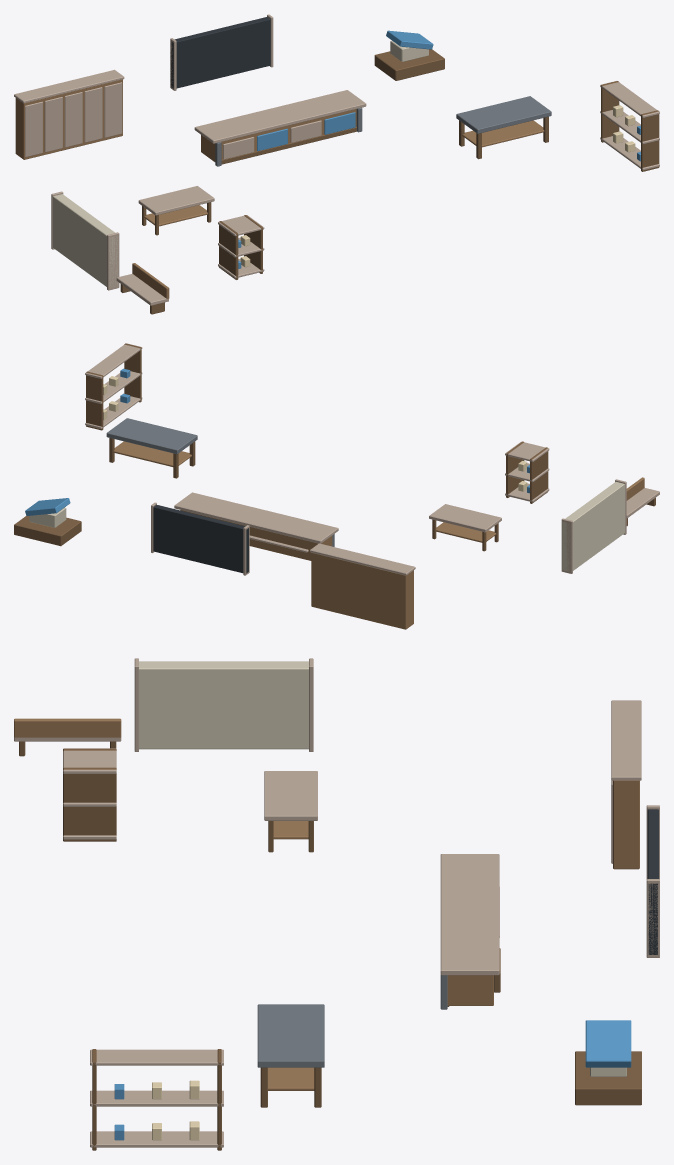
File: keylot_property_office.lod1.glb
The picture shows the model from 3 angles, top to bottom: view 1: azimuth 30°, elevation 25°; view 2: azimuth 150°, elevation 25°; view 3: azimuth 270°, elevation 25°; orthographic projection. The views are drawn at different scales.
Size of the model in its own units: 21.67 by 2.82 by 14.45.
